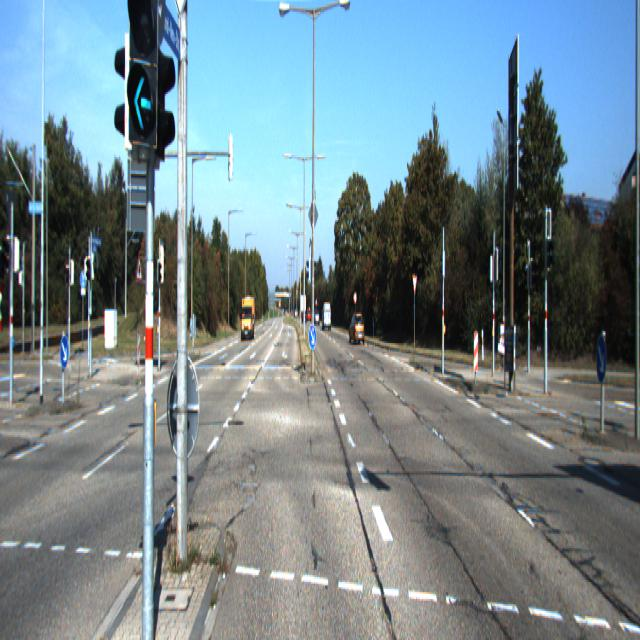Car: (239, 296, 255, 342), (348, 313, 364, 347)
